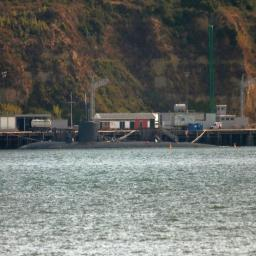submarine: (19, 120, 205, 151)
